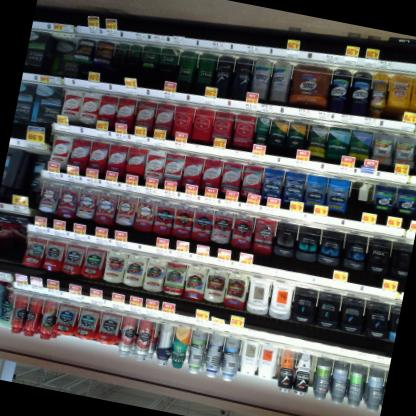empty_space: (344, 180, 375, 223)
